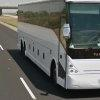Bus: (12, 3, 96, 94)
